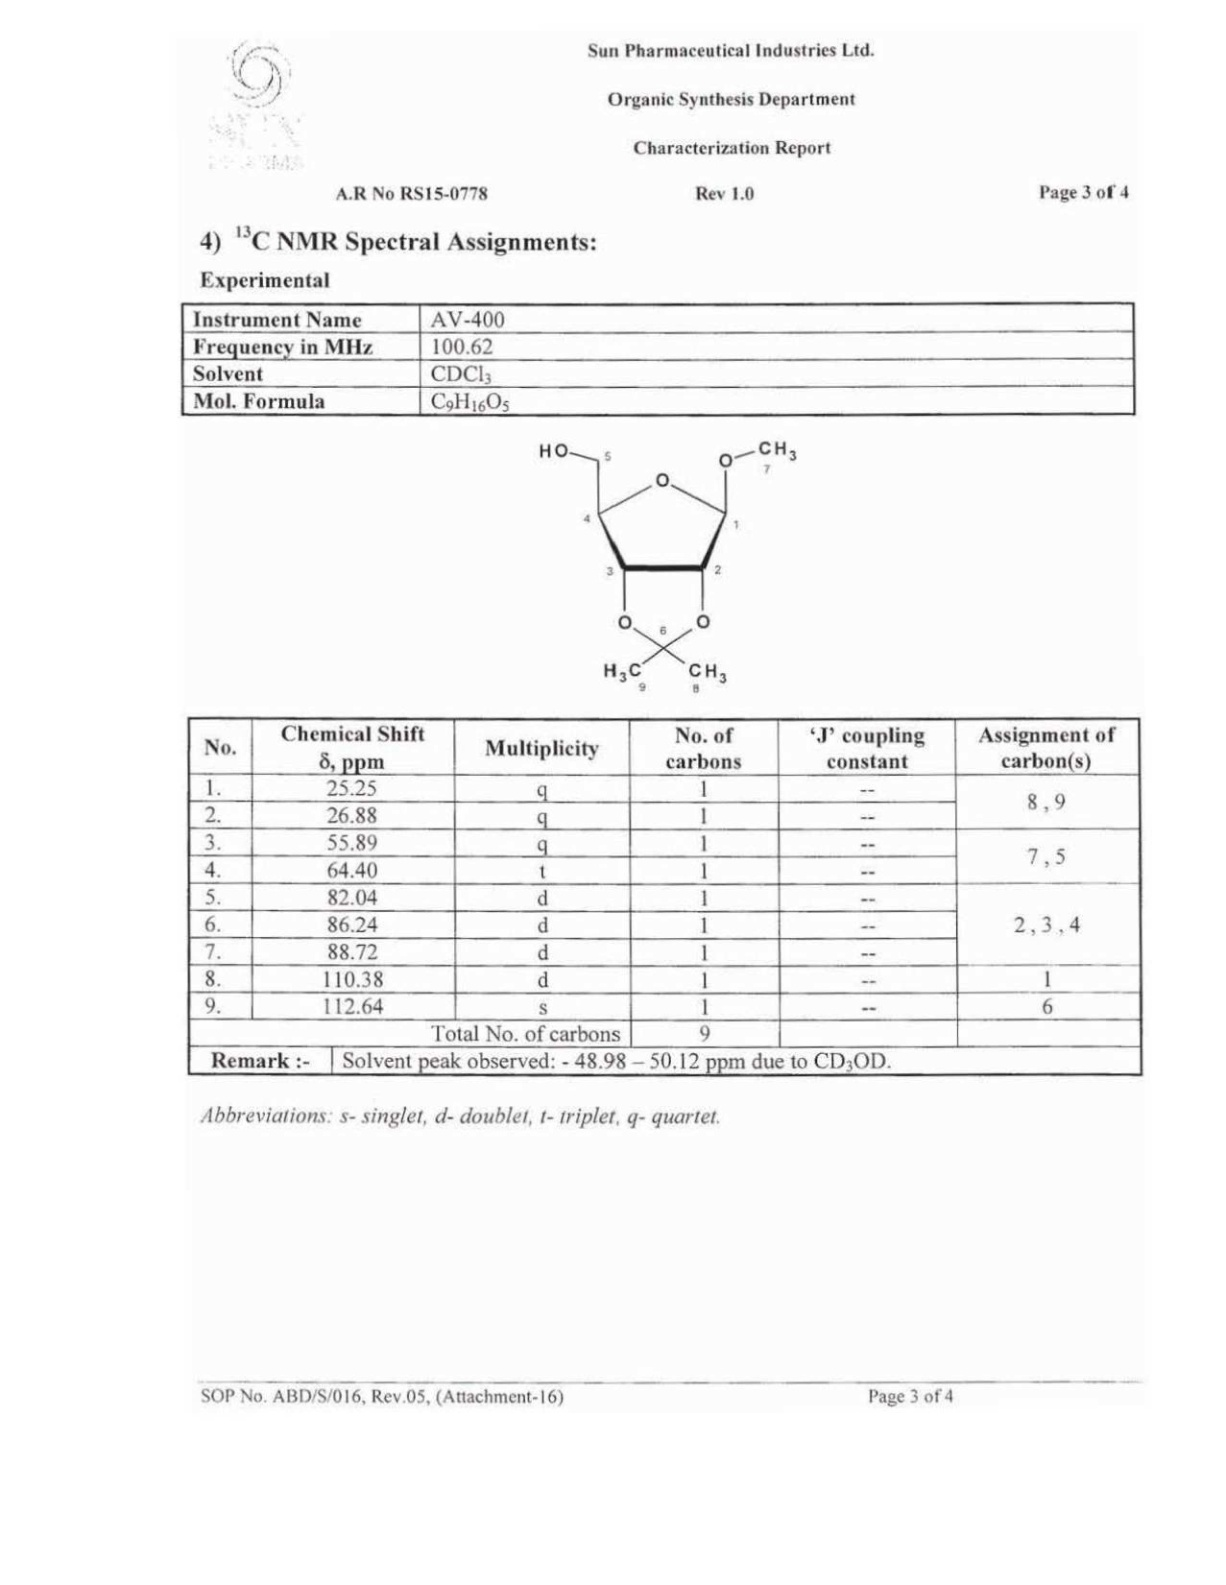full_lined: (179, 301, 1136, 417)
merged_cells: (185, 715, 1142, 1078)
